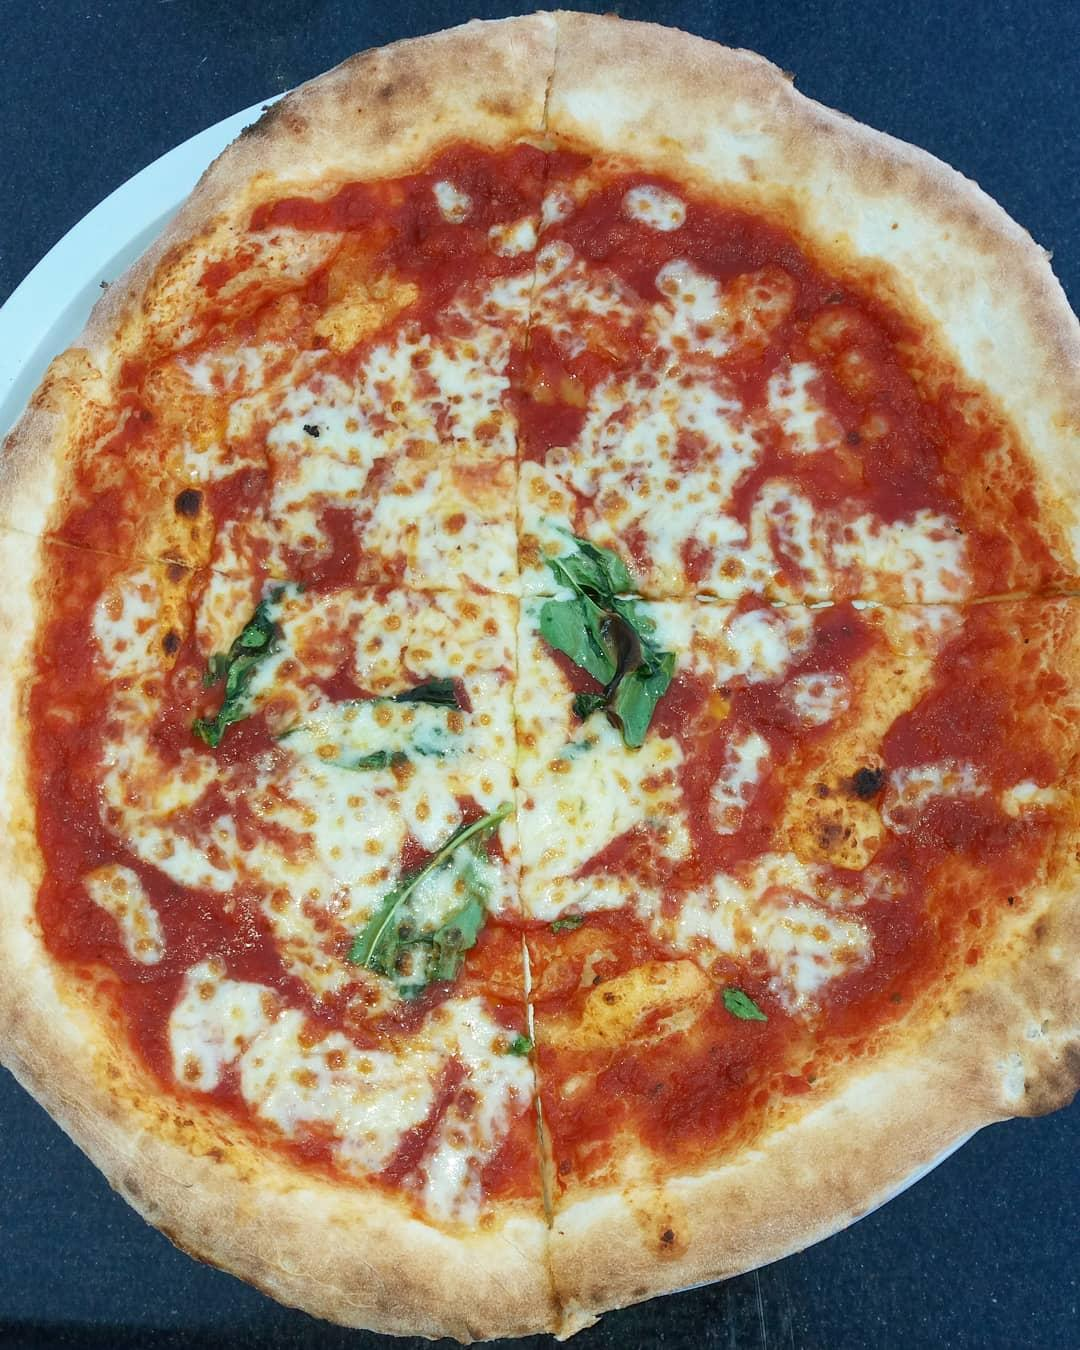Basil: (517, 514, 702, 760), (336, 801, 527, 979), (199, 576, 312, 736), (342, 717, 476, 778), (358, 672, 485, 717), (723, 971, 776, 1029), (482, 1022, 540, 1071)
Pizza: (0, 0, 1080, 1350)
